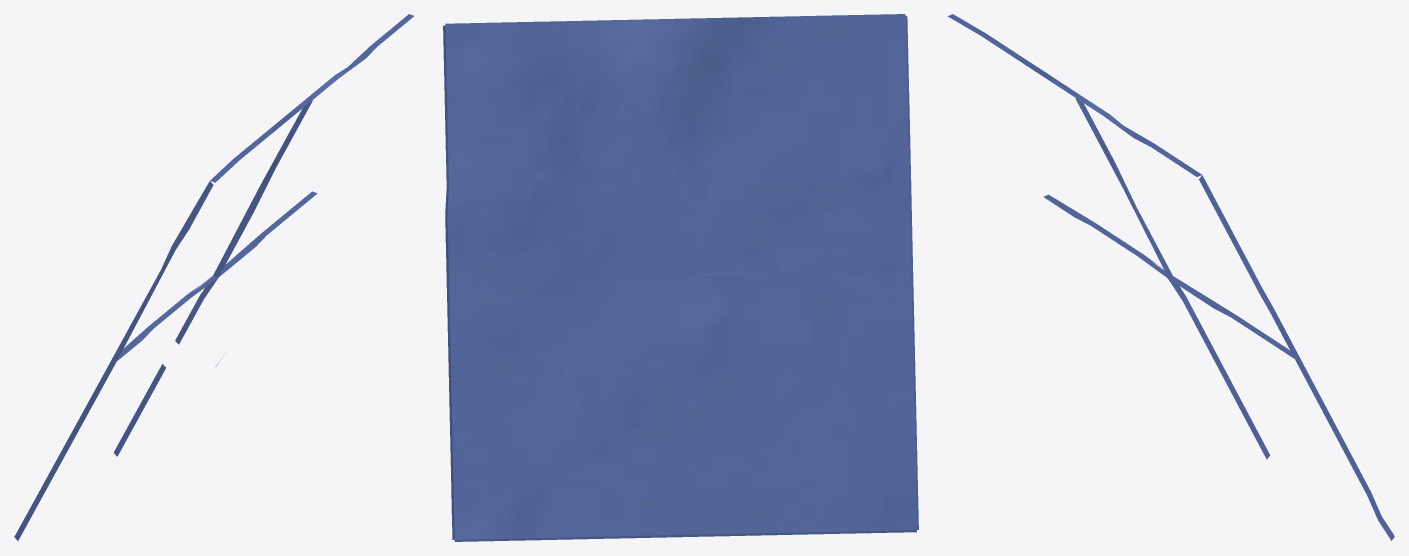
3 renders of one model, left to right at view 1: azimuth 30°, elevation 25°; view 2: azimuth 150°, elevation 25°; view 3: azimuth 270°, elevation 25°, orthographic. The views are drawn at different scales.
Size of the model in its own units: 39291 by 35491 by 34421.
Materials: 1 (1 with a texture image).
